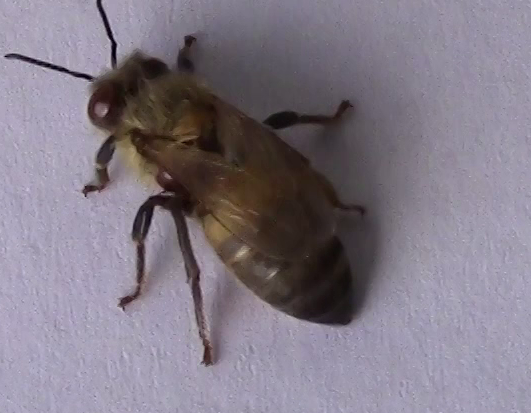Varroa destructor: (86, 82, 128, 128)
